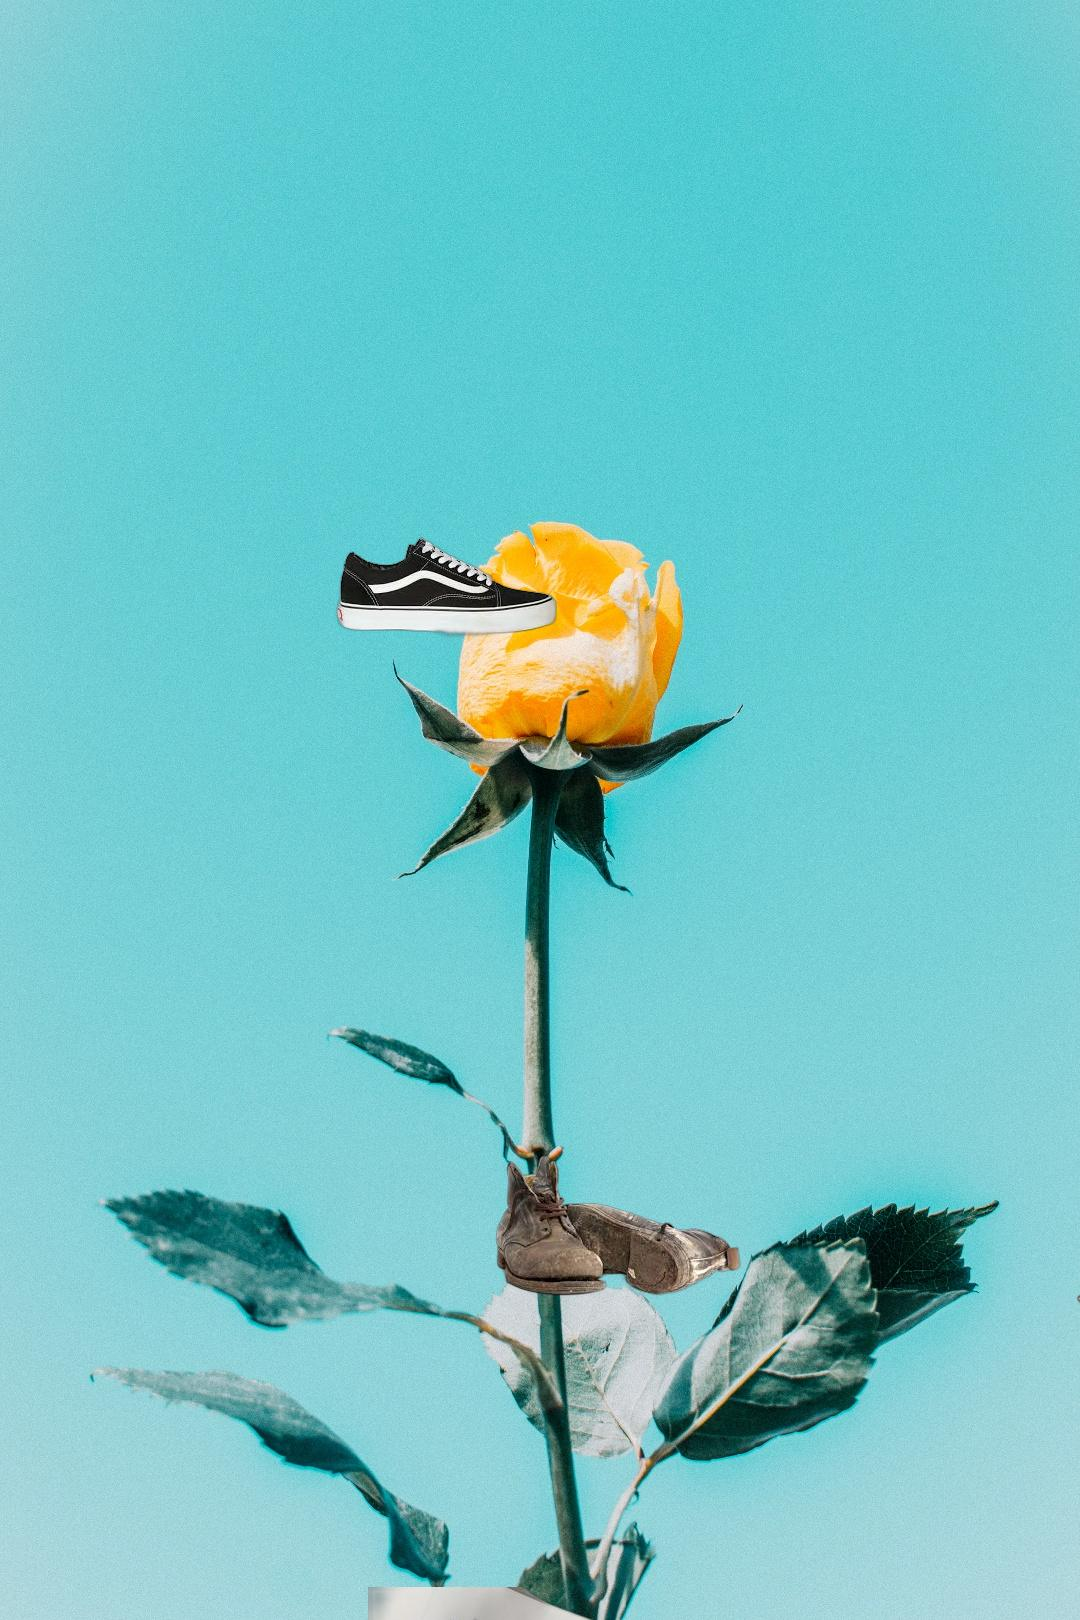clothes: (1074, 1186, 1080, 1546)
paper: (368, 1587, 874, 1620)
shoes: (495, 1154, 742, 1298), (329, 535, 560, 655)
